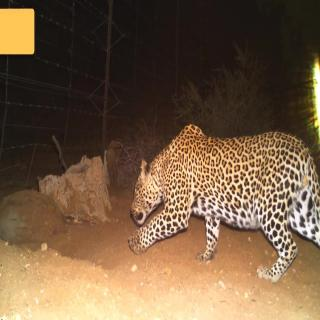Leopard: (128, 124, 320, 284)
